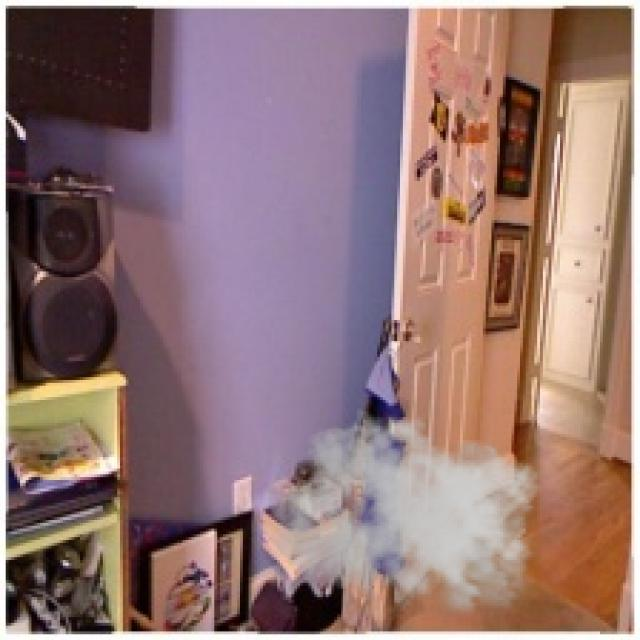smoke: (272, 408, 548, 626)
